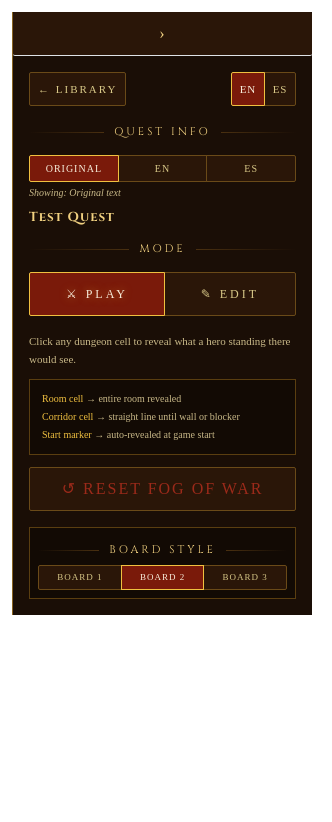
Test: Sidebar collapse › Test 3 — clicking toggle flips chevron › → ‹
Click the button "›". click: (162, 34)
box: [13,12,312,56]
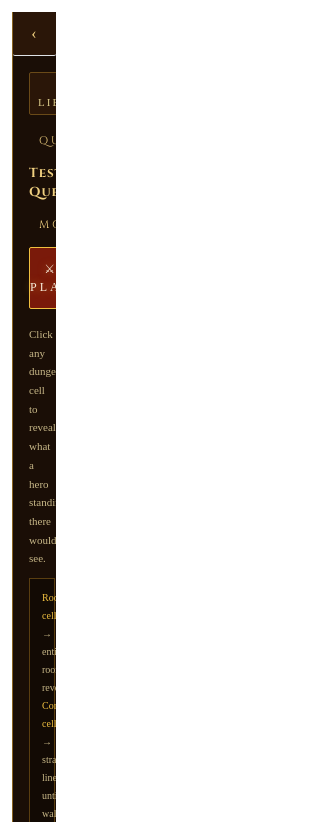
Expected: the button "‹" is shown, [13,12,56,56]
